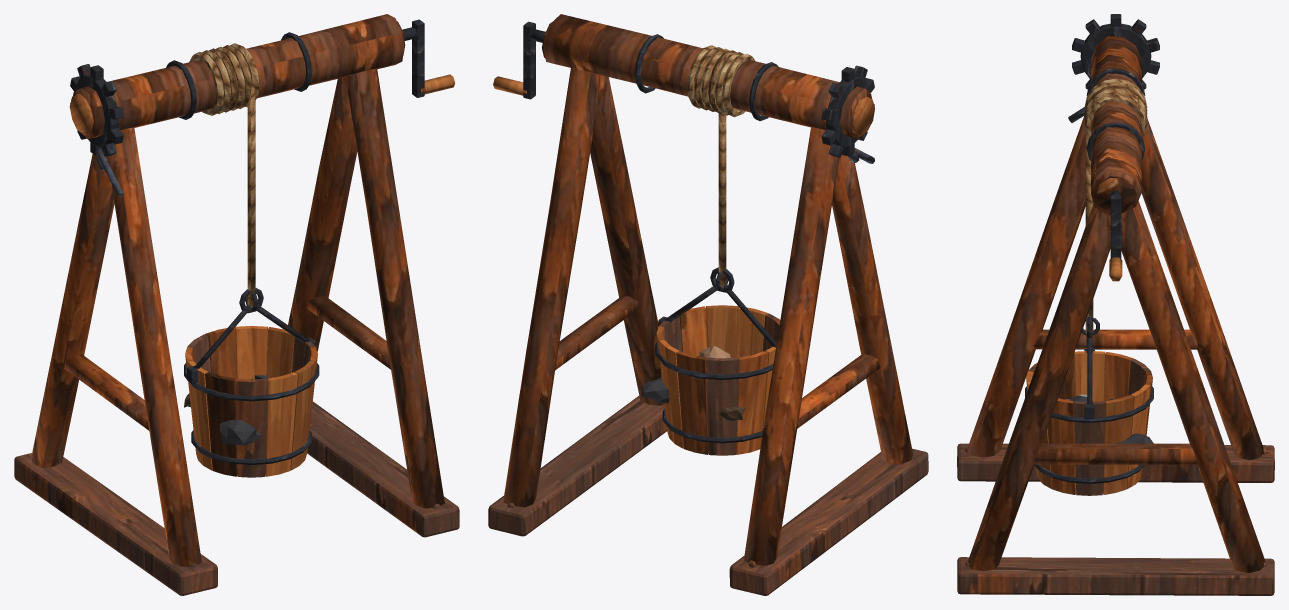
File: lw_ore_bucket_hoist.glb
3 renders of one model, left to right at view 1: azimuth 30°, elevation 25°; view 2: azimuth 150°, elevation 25°; view 3: azimuth 270°, elevation 25°, orthographic. The views are drawn at different scales.
Visible parts, largest first — view 1: model; view 2: model; view 3: model.
Boxes of the visible parts, x1=… form: model: x1=14, y1=14, x2=459, y2=595; model: x1=488, y1=14, x2=928, y2=595; model: x1=957, y1=14, x2=1274, y2=595.
Bounding box in the file's own units: 1.16 × 1.41 × 0.901.
25 materials, 21 textured.
